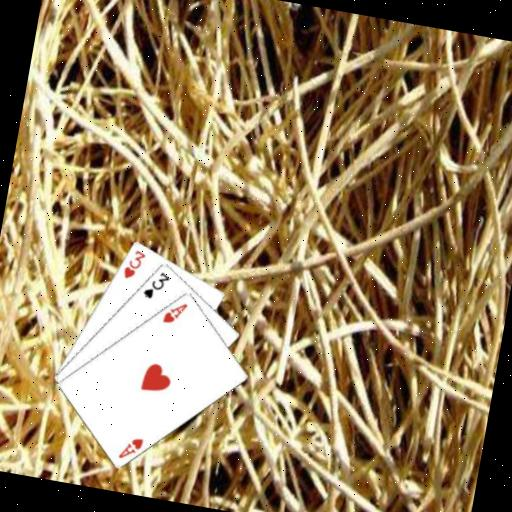3H: (119, 244, 148, 282)
3S: (139, 266, 172, 303)
AH: (158, 296, 189, 327), (114, 432, 145, 463)
